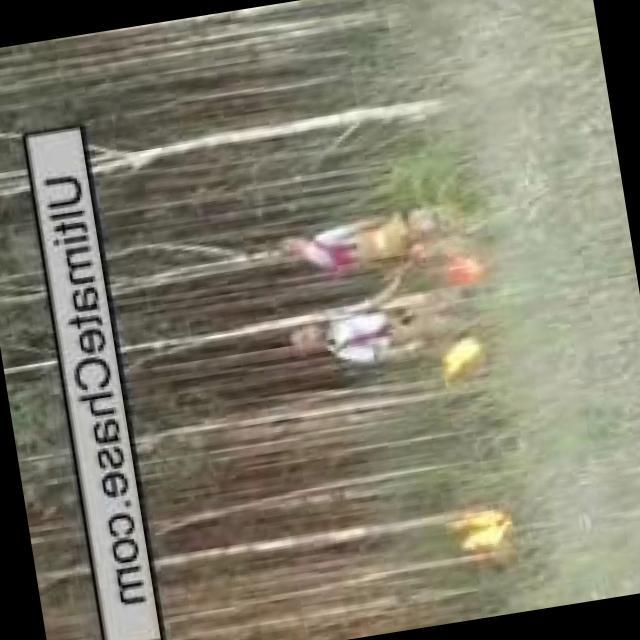Fire: (449, 502, 526, 562), (440, 322, 491, 386), (448, 250, 494, 290)
